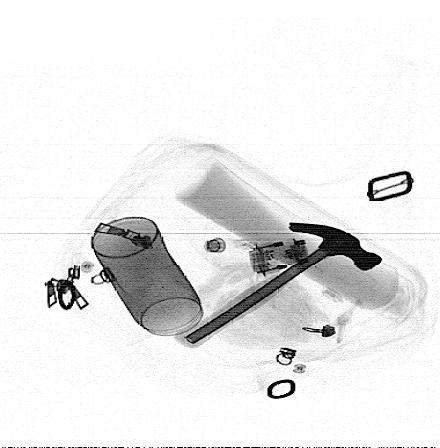Hammer: (174, 222, 385, 348)
